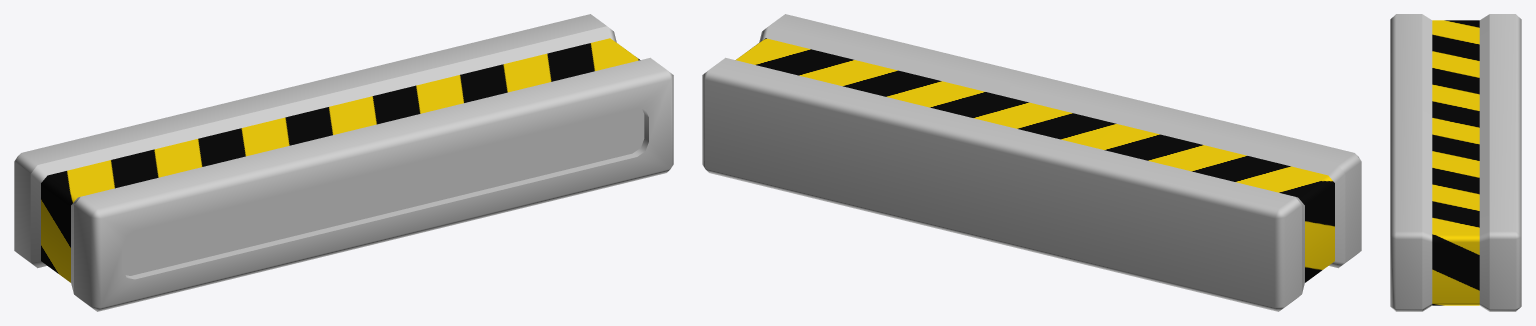
Rendered from obstacle_14_001.fbx.
The picture shows the model from 3 angles, left to right: view 1: azimuth 30°, elevation 25°; view 2: azimuth 150°, elevation 25°; view 3: azimuth 270°, elevation 25°; orthographic projection. The views are drawn at different scales.
Parts seen in each view (by area): view 1: obstacle_14_001; view 2: obstacle_14_001; view 3: obstacle_14_001.
Boxes of the visible parts, <box> form: obstacle_14_001: <box>14,14,673,311</box>; obstacle_14_001: <box>702,14,1361,311</box>; obstacle_14_001: <box>1390,14,1521,311</box>.
Bounding box in the file's own units: 400 × 100 × 67.59.
